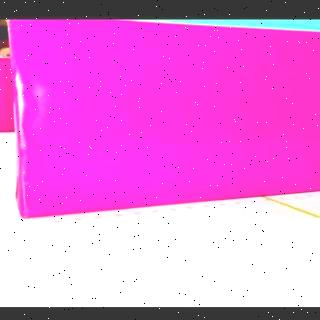xparking: (22, 32, 319, 223), (3, 62, 14, 130)
